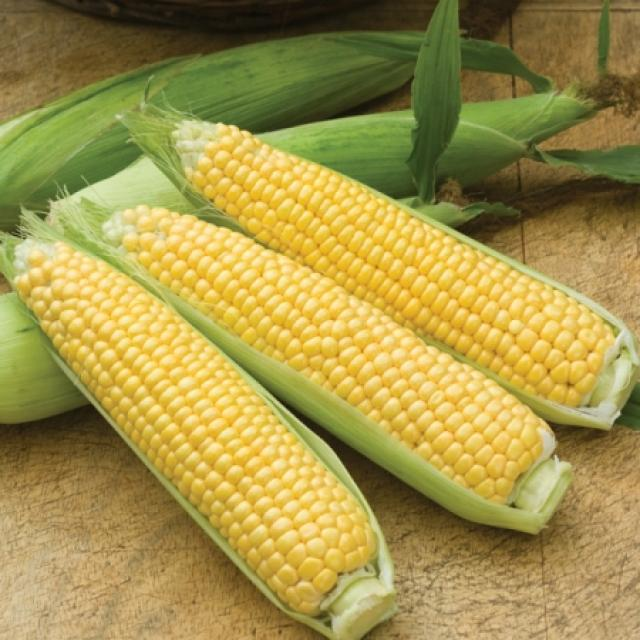corn: (155, 76, 640, 431), (85, 190, 569, 532), (10, 214, 395, 626)
